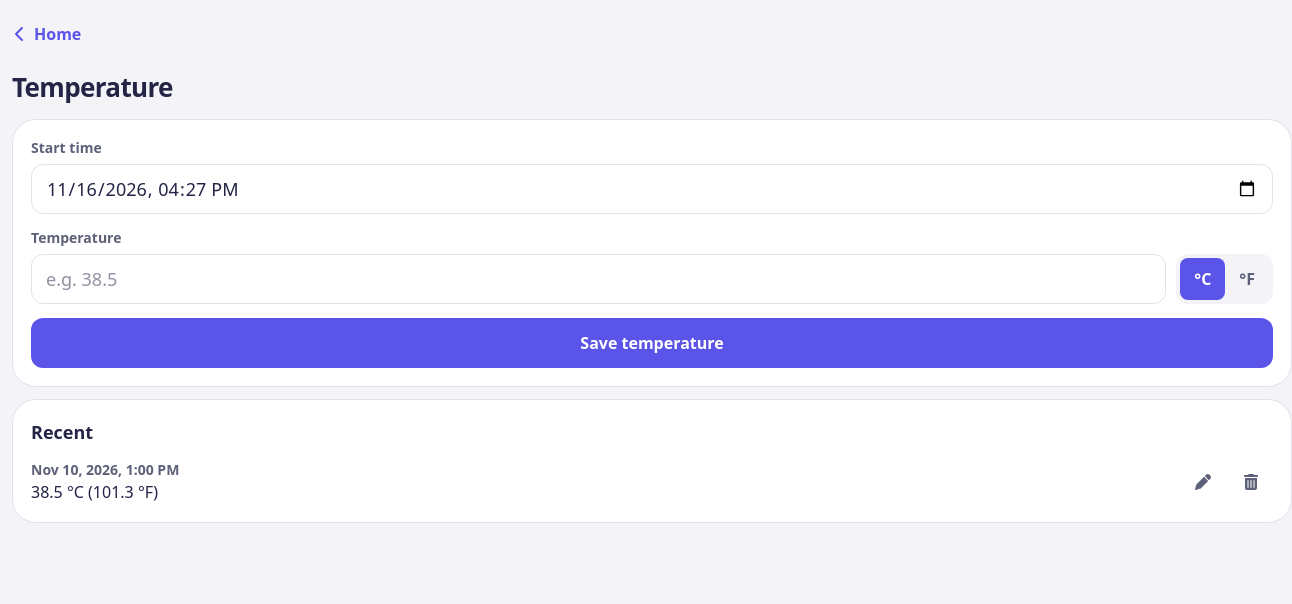
TemperatureLogPage › edits a saved reading
Click the button named "Edit entry" at (1203,482), box [1181,460,1225,504]
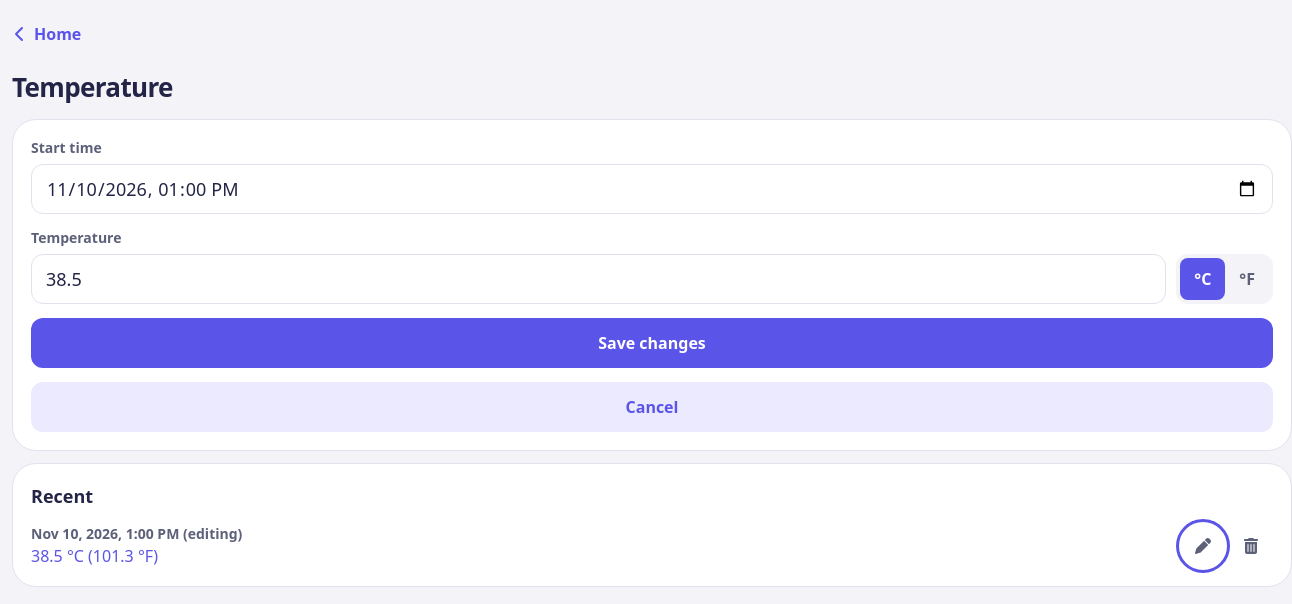
Result: the number field labelled "Temperature" holds "38.5"
Replace the text in the number field labelled "Temperature" with "39" at (599,279), box [31,254,1166,304]
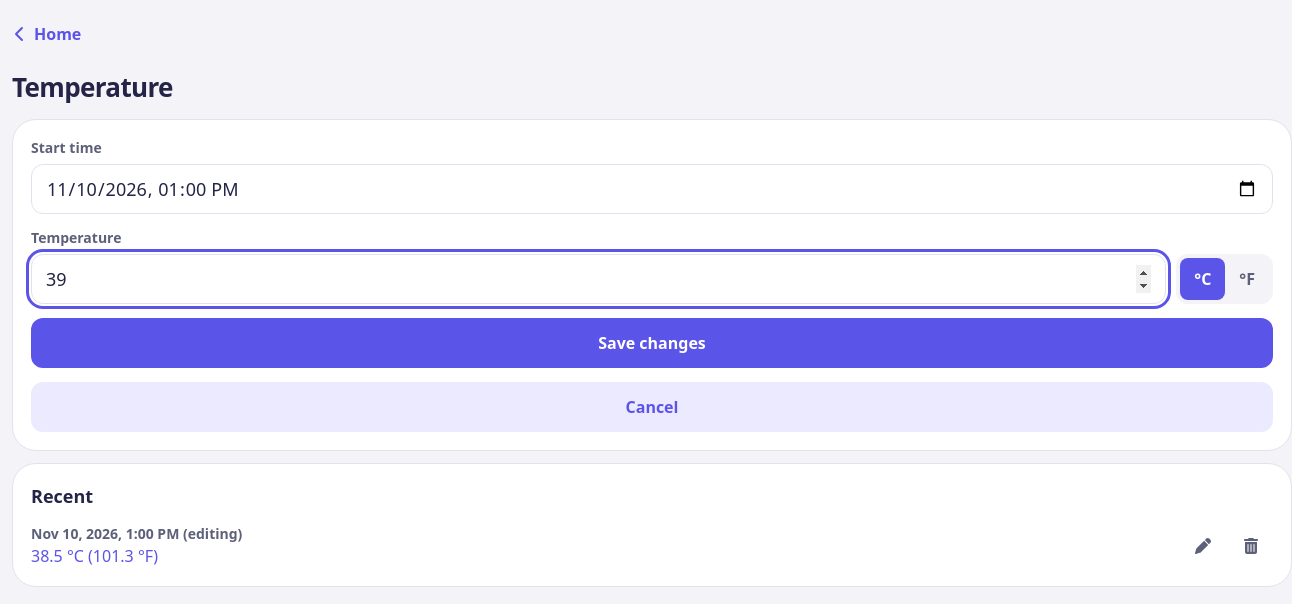
Click the button "Save changes" at (652,343), box [31,318,1273,368]
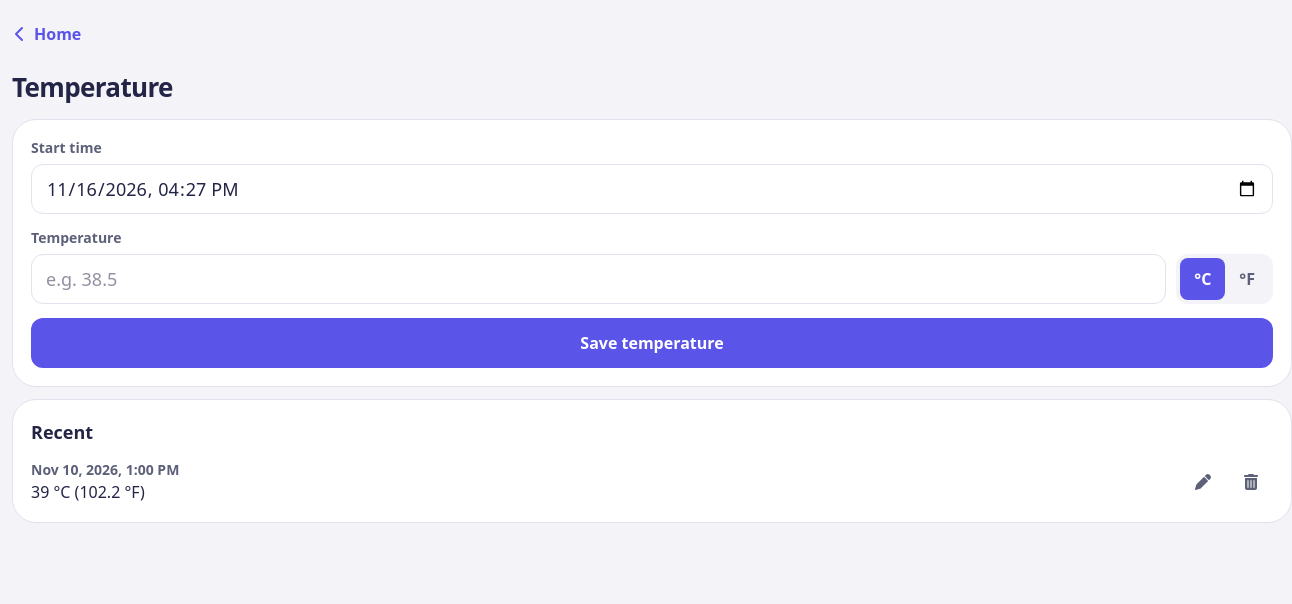
Result: the text "39 °C (102.2 °F)" is shown at [31,481,145,503]
